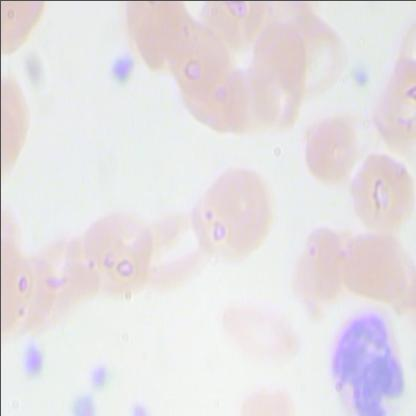Platelets: (17, 334, 53, 386), (104, 50, 139, 83), (66, 388, 102, 416), (86, 362, 110, 393), (122, 399, 158, 415), (349, 65, 371, 91)
RBC: (186, 166, 272, 266), (77, 206, 162, 296), (337, 226, 415, 312), (135, 202, 214, 286), (286, 220, 348, 327), (216, 294, 304, 366), (346, 144, 416, 233), (296, 112, 356, 186), (226, 376, 310, 416)
WBC: (325, 299, 415, 415)
